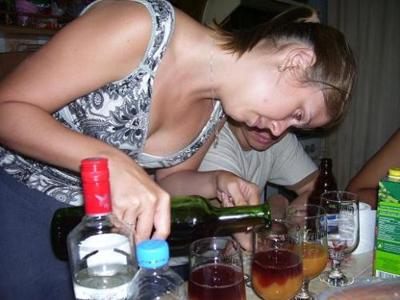person: (2, 2, 358, 300)
